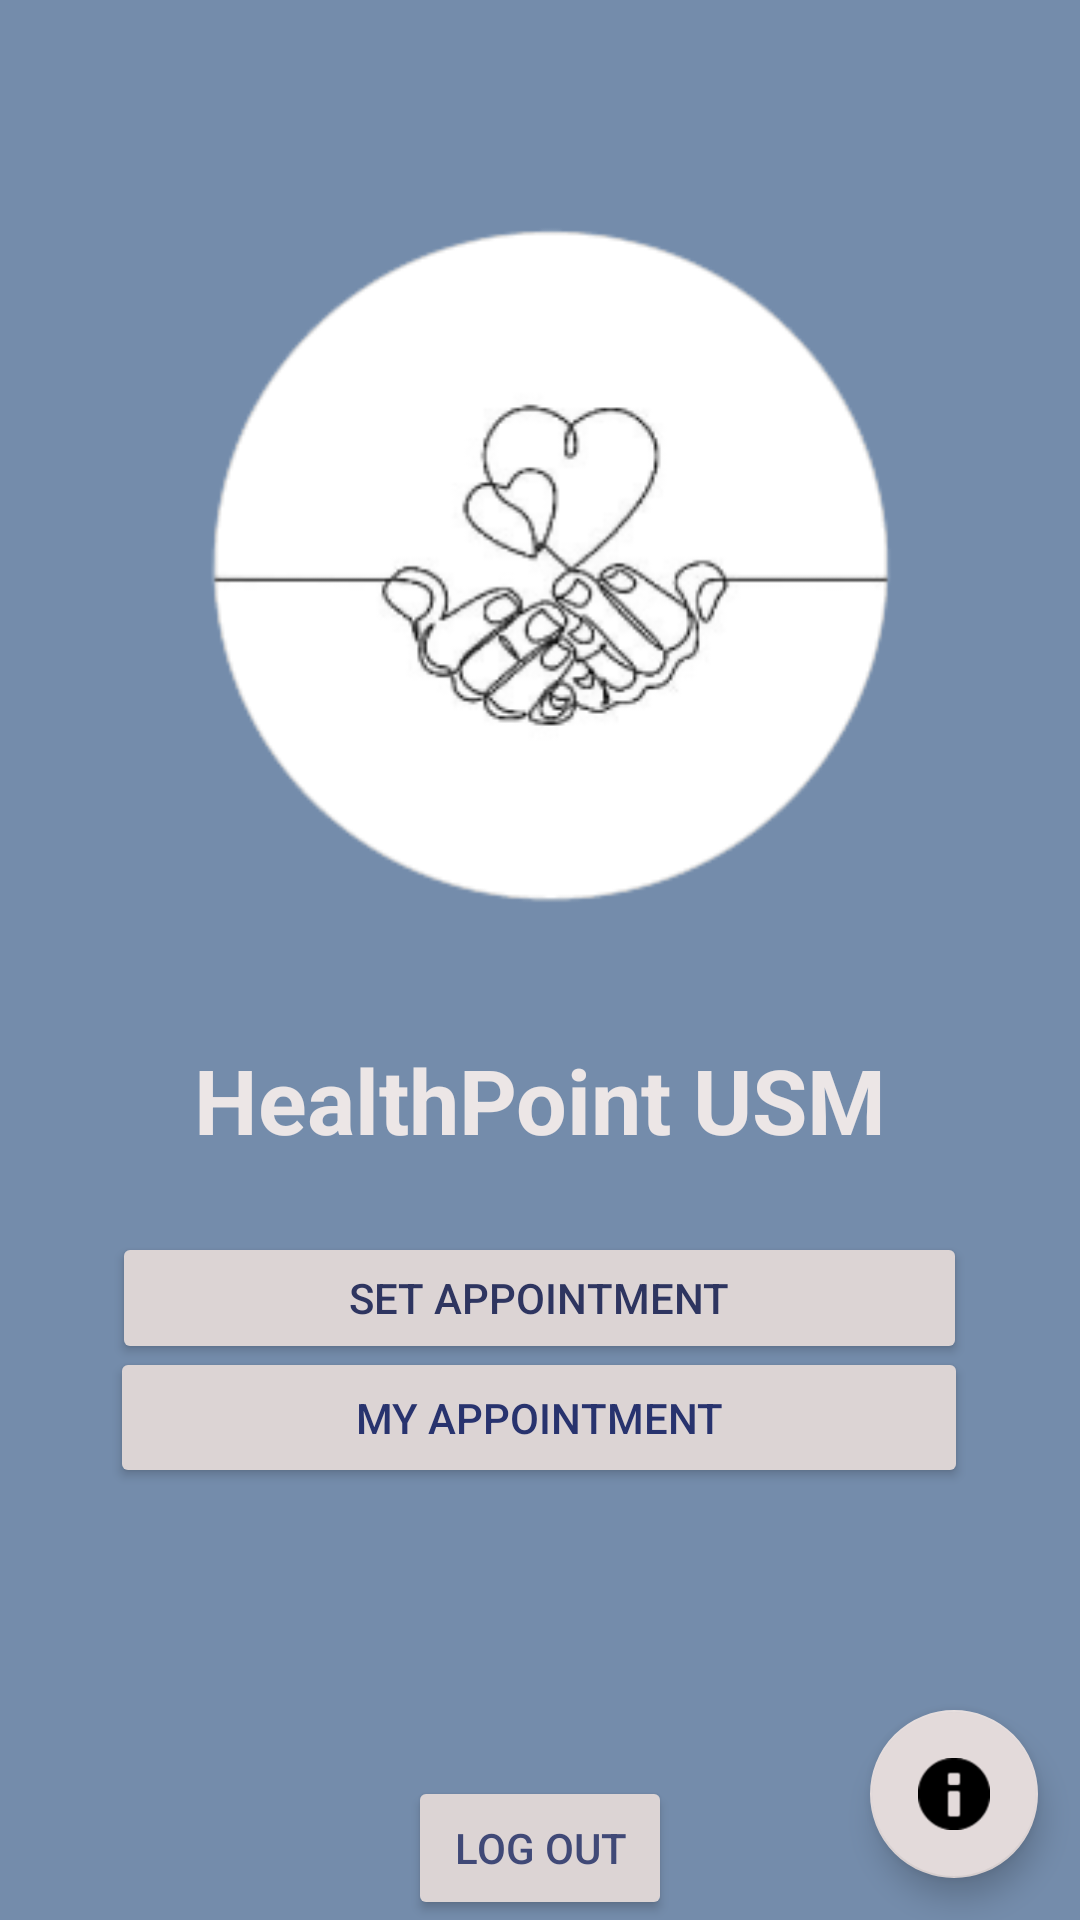

Where icons sit on this 1080w x 1920h app screen, as {"left": x1, "top": y1, "right": x2, "bottom": y2}:
info: {"left": 870, "top": 1710, "right": 1038, "bottom": 1878}
